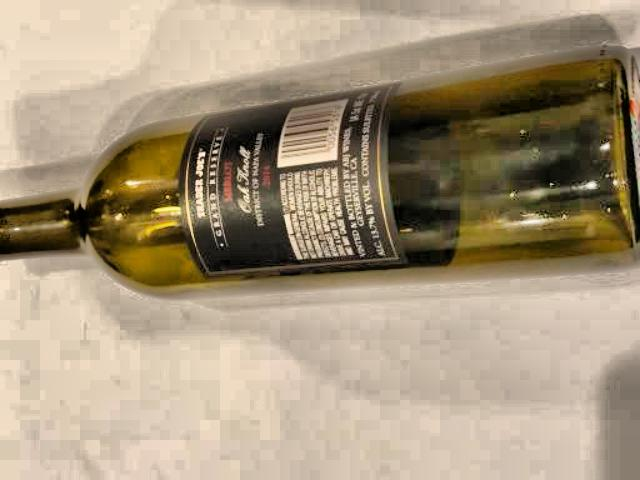Bottles: (0, 38, 640, 327)
